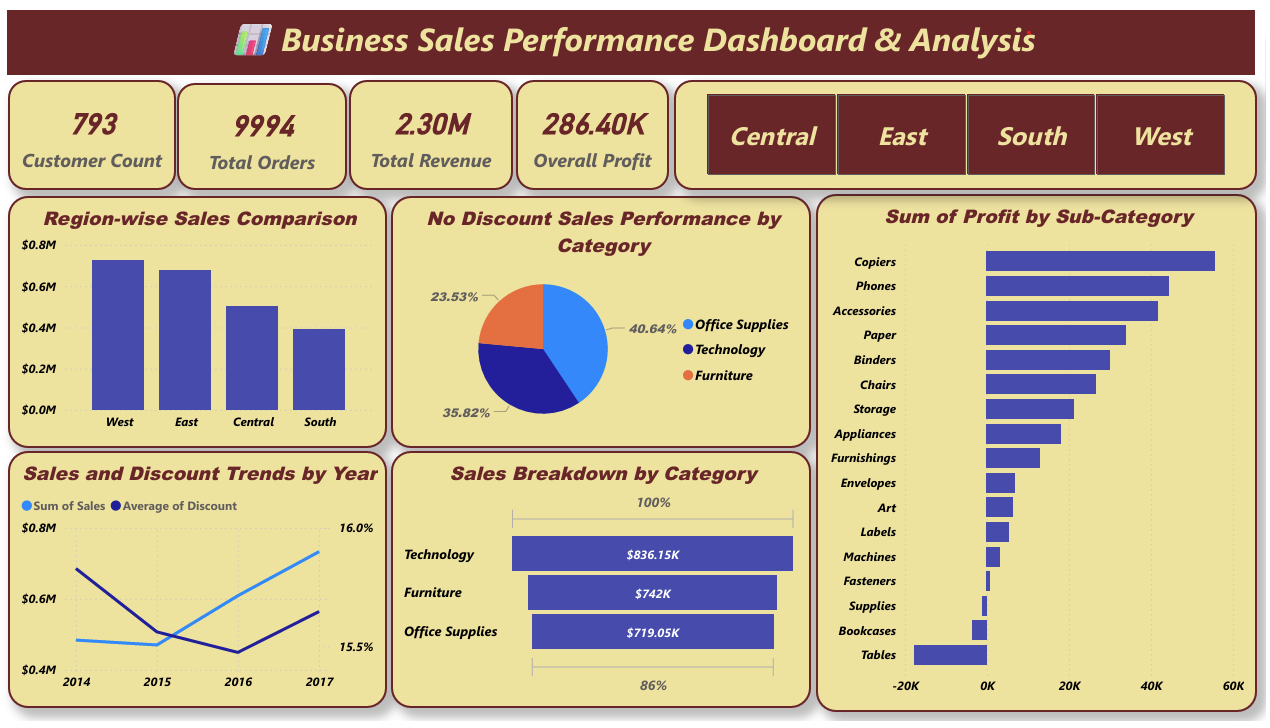

What the dashboard file says about the page in this screenshot:
{"tool":"powerbi","page":{"name":"Dashboard","canvas":[1280,720],"ordinal":0},"visuals":[{"type":"textbox","box":[22.4,9.7,1247.9,65.2],"z":0},{"type":"card","fields":{"Values":["Table.Overall_Customer"]},"box":[22.4,78.8,167.3,109.9],"z":1000},{"type":"card","fields":{"Values":["Table.No.of.Orders"]},"box":[191,79,170,110],"z":2000},{"type":"card","fields":{"Values":["Table.Total Revenue"]},"box":[362.8,78.8,164.4,109.9],"z":3000},{"type":"card","fields":{"Values":["Table.Overall Profit"]},"box":[530.1,78.8,152.7,109.9],"z":4000},{"type":"columnChart","title":"Region-wise Sales Comparison","fields":{"Category":["Region-wise sales.Region"],"Y":["Sum(Region-wise sales.Total Sales)"]},"box":[22.4,194.5,378.4,252.9],"z":5000},{"type":"pieChart","title":"No Discount Sales Performance by Category","fields":{"Category":["No discount sales.Category"],"Y":["Sum(No discount sales.Total Sales)"]},"box":[404.6,194.5,420.2,252.9],"z":6000},{"type":"lineChart","title":"Sales and Discount Trends by Year","fields":{"Category":["Orders_Fact.Order Date.Variation.Date Hierarchy.Year","Orders_Fact.Order Date.Variation.Date Hierarchy.Quarter","Orders_Fact.Order Date.Variation.Date Hierarchy.Month","Orders_Fact.Order Date.Variation.Date Hierarchy.Day"],"Y":["Sum(Orders_Fact.Sales)"],"Y2":["Avg(Orders_Fact.Discount)"]},"box":[22.4,450.3,378.4,256.8],"z":7000},{"type":"funnel","title":"Sales Breakdown by Category","fields":{"Category":["Product_Dim.Category"],"Y":["Sum(Orders_Fact.Sales)"]},"box":[404.6,450.3,420.2,256.8],"z":8000},{"type":"clusteredBarChart","fields":{"Category":["Product_Dim.Sub-Category"],"Y":["Sum(Orders_Fact.Profit)"]},"box":[829.7,192.6,441.6,518.4],"z":9000},{"type":"slicer","fields":{"Values":["Customer_Dim.Region"]},"box":[687.7,78.8,583.6,109.9],"z":10000}]}

Visuals, with their boxes in screenshot pixels (x1, y1, x2, y2), scaled from the page's 1280x720 canvas onto the 1270x728 screenshot:
textbox: 22, 10, 1260, 76
card - Table.Overall_Customer: 22, 80, 188, 191
card - Table.No.of.Orders: 190, 80, 358, 191
card - Table.Total Revenue: 360, 80, 523, 191
card - Table.Overall Profit: 526, 80, 677, 191
"Region-wise Sales Comparison" columnChart: 22, 197, 398, 452
"No Discount Sales Performance by Category" pieChart: 401, 197, 818, 452
"Sales and Discount Trends by Year" lineChart: 22, 455, 398, 715
"Sales Breakdown by Category" funnel: 401, 455, 818, 715
clusteredBarChart - Product_Dim.Sub-Category x Sum(Orders_Fact.Profit): 823, 195, 1261, 719
slicer - Customer_Dim.Region: 682, 80, 1261, 191
